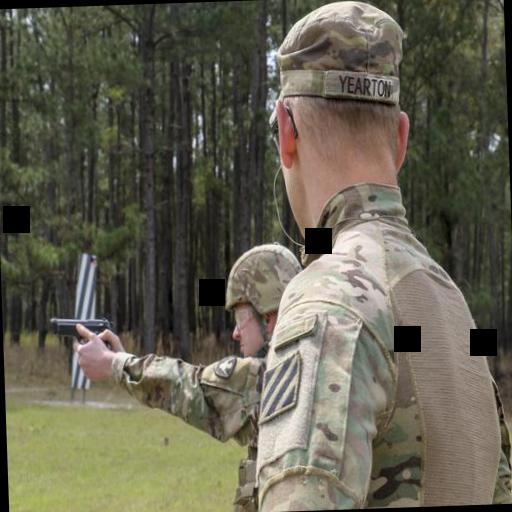Handgun: (46, 306, 110, 348)
